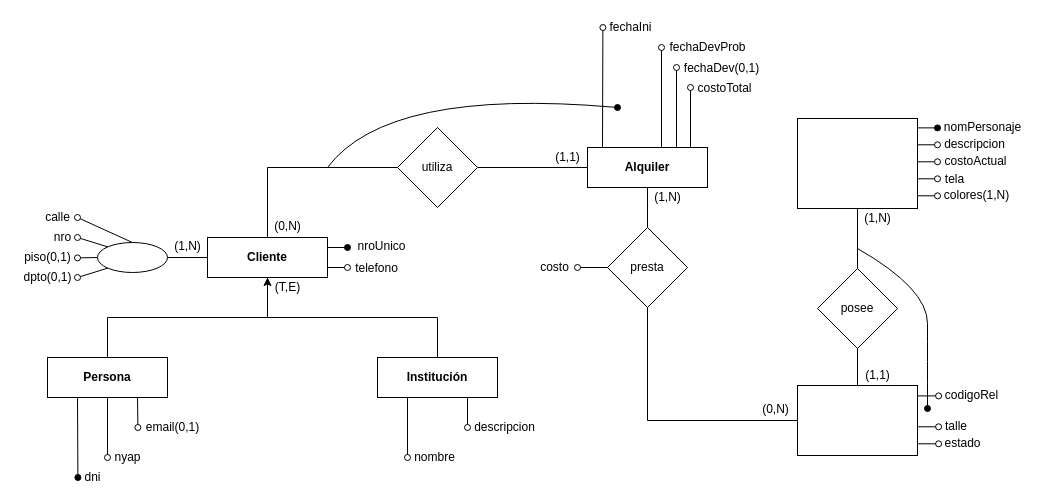
Some shapes in this 1044 by 504 pixel diagram are drawn without their labels. Each missing label, with the box of its shape:
dirección: (96, 242, 168, 272)
Disfraz: (796, 118, 918, 208)
Ejemplar: (796, 384, 918, 456)
